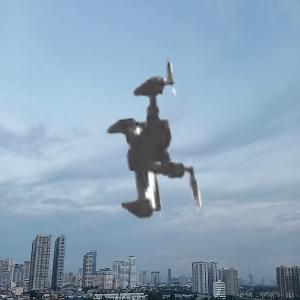drone: (1, 15, 278, 292)
